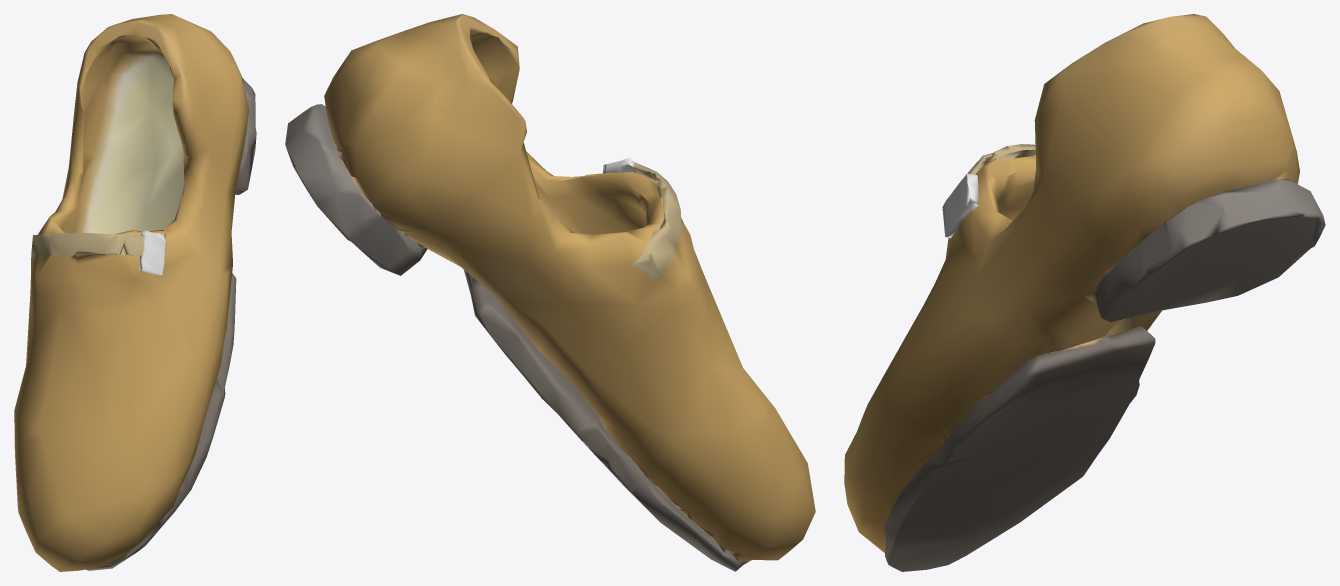
Rendered from GrandmaShoeFlat_LOD1.fbx.
3 renders of one model, left to right at view 1: azimuth 30°, elevation 25°; view 2: azimuth 150°, elevation 25°; view 3: azimuth 270°, elevation 25°, orthographic. The views are drawn at different scales.
Visible parts, largest first — view 1: Layer_3; view 2: Layer_3; view 3: Layer_3.
Part boxes in pixels (bbox=[...]): Layer_3: bbox=[14, 14, 256, 571]; Layer_3: bbox=[285, 14, 815, 571]; Layer_3: bbox=[844, 14, 1325, 571].
Size of the model in its own units: 0.2517 by 0.2359 by 0.3515.
Materials: 1 (1 with a texture image).
